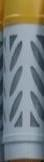cylinder: (1, 0, 44, 162)
